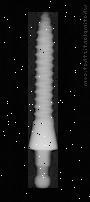OCO Biomedical: (23, 12, 59, 188)
